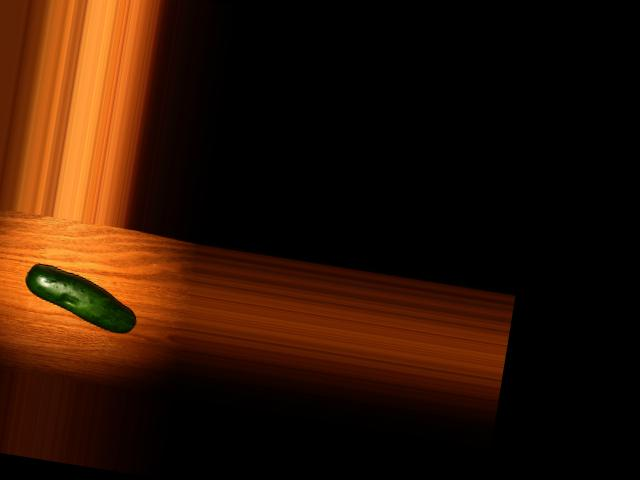cucumber: (21, 262, 143, 334)
